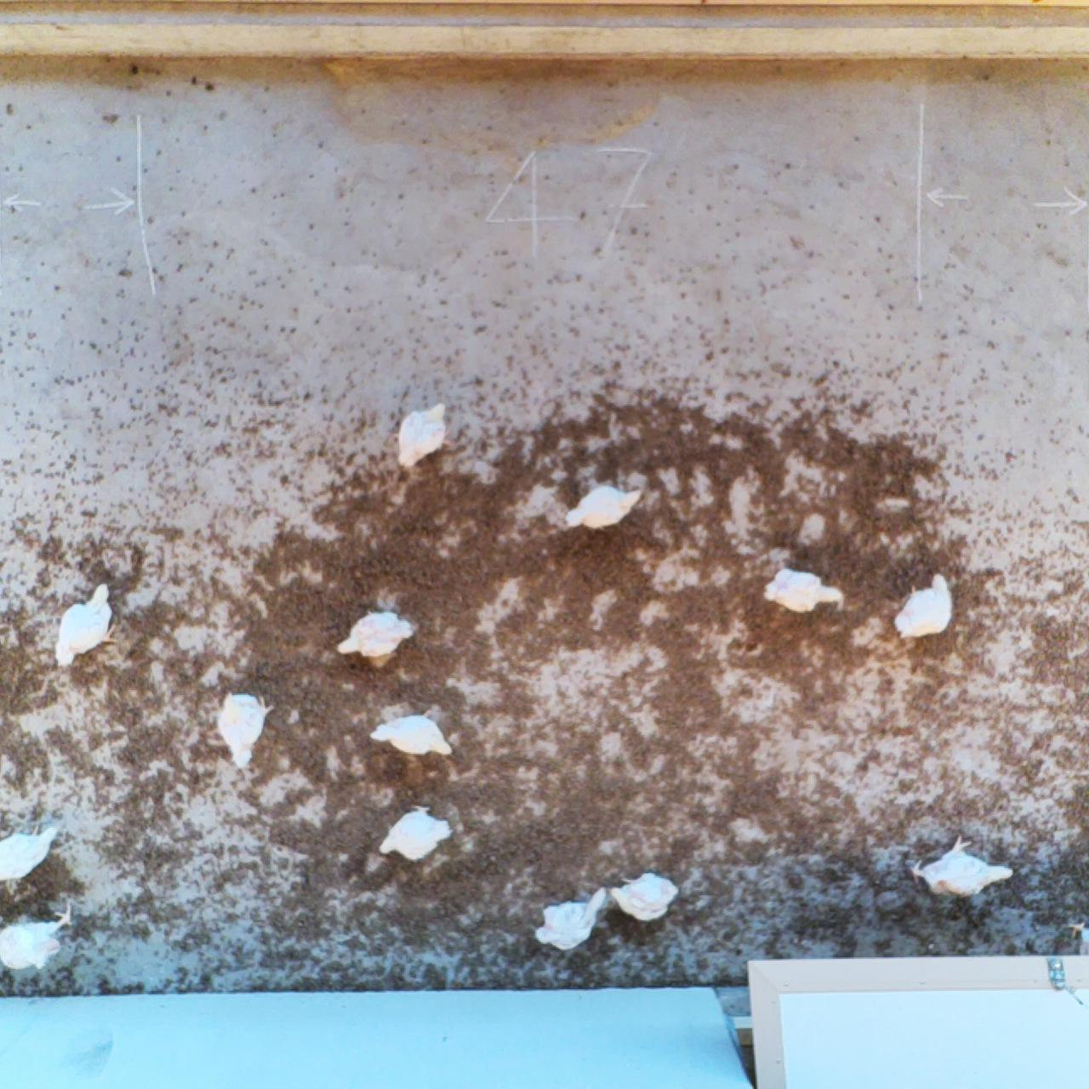chicken: (908, 831, 1017, 905), (50, 581, 119, 671), (561, 473, 645, 543), (760, 552, 847, 619), (0, 897, 77, 972), (216, 686, 277, 773), (535, 884, 610, 953), (367, 705, 456, 762), (376, 800, 455, 863), (334, 604, 415, 664), (392, 400, 454, 473), (892, 569, 955, 639), (609, 869, 682, 926), (0, 821, 63, 884)
